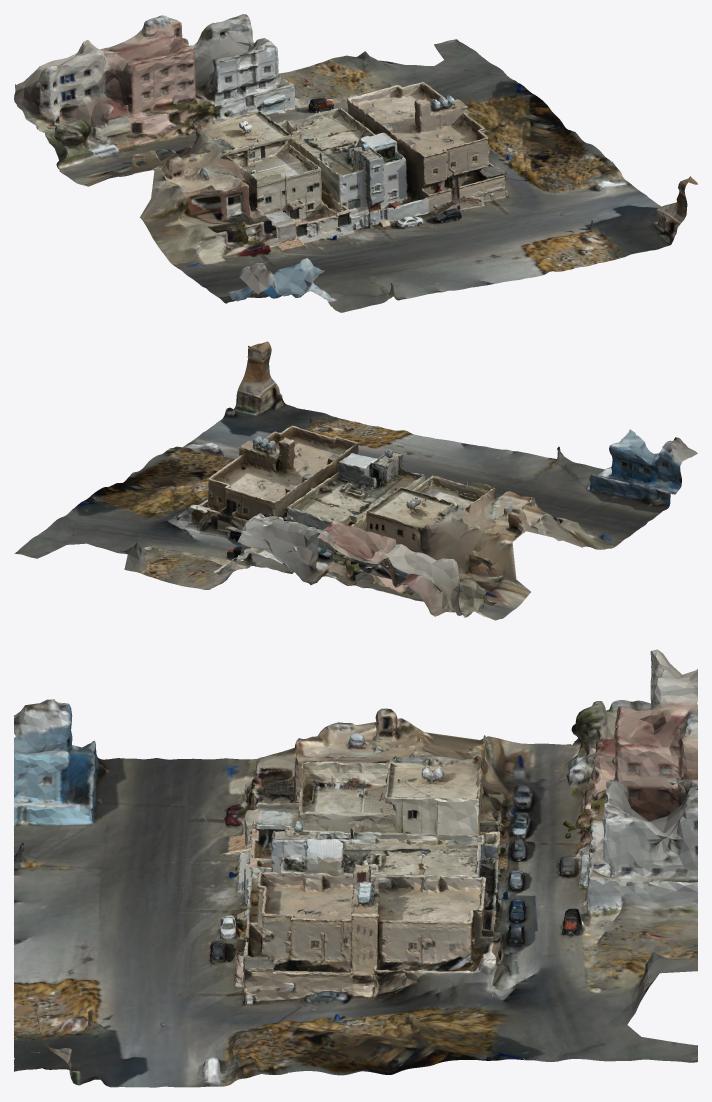
3 views of the same model, one above another, from view 1: azimuth 30°, elevation 25°; view 2: azimuth 150°, elevation 25°; view 3: azimuth 270°, elevation 25° (orthographic). The views are drawn at different scales.
Bounding box in the file's own units: 2.48 × 0.6371 × 2.35.
Materials: 1 (1 with a texture image).
